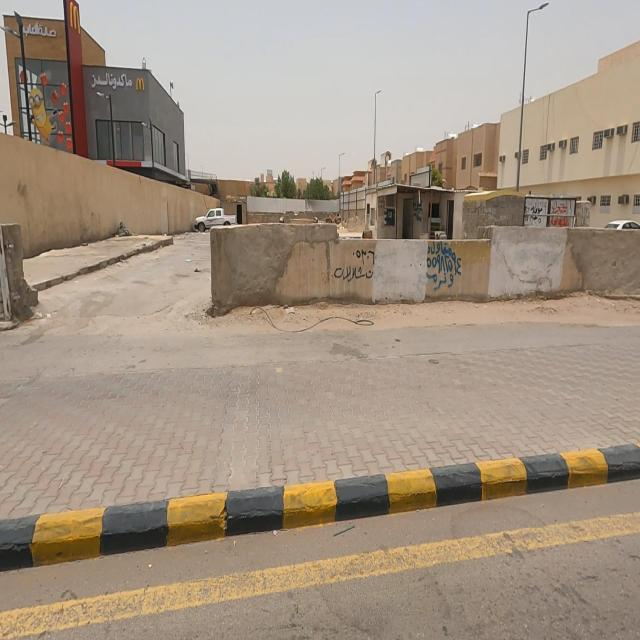Graffiti: (429, 243, 462, 292), (333, 248, 376, 283)
